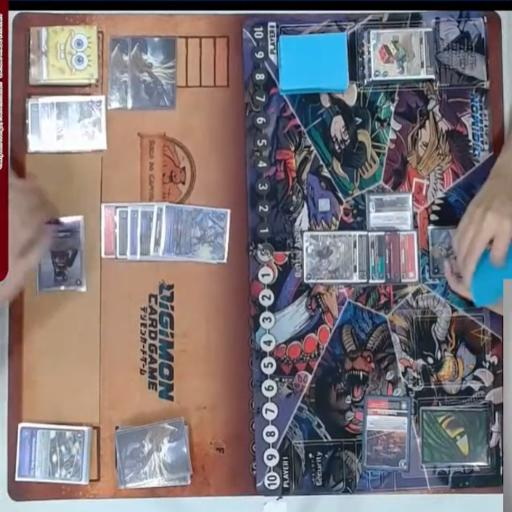card: (14, 423, 92, 484), (33, 213, 88, 297), (163, 200, 234, 264), (362, 392, 414, 470), (41, 97, 111, 154), (367, 28, 436, 85), (302, 228, 369, 284), (364, 190, 414, 234), (429, 226, 469, 275), (100, 202, 124, 257), (24, 95, 44, 154), (366, 230, 386, 288), (150, 199, 170, 256), (398, 228, 418, 282), (383, 231, 402, 284), (138, 206, 155, 262), (127, 202, 142, 258), (117, 206, 130, 259)
